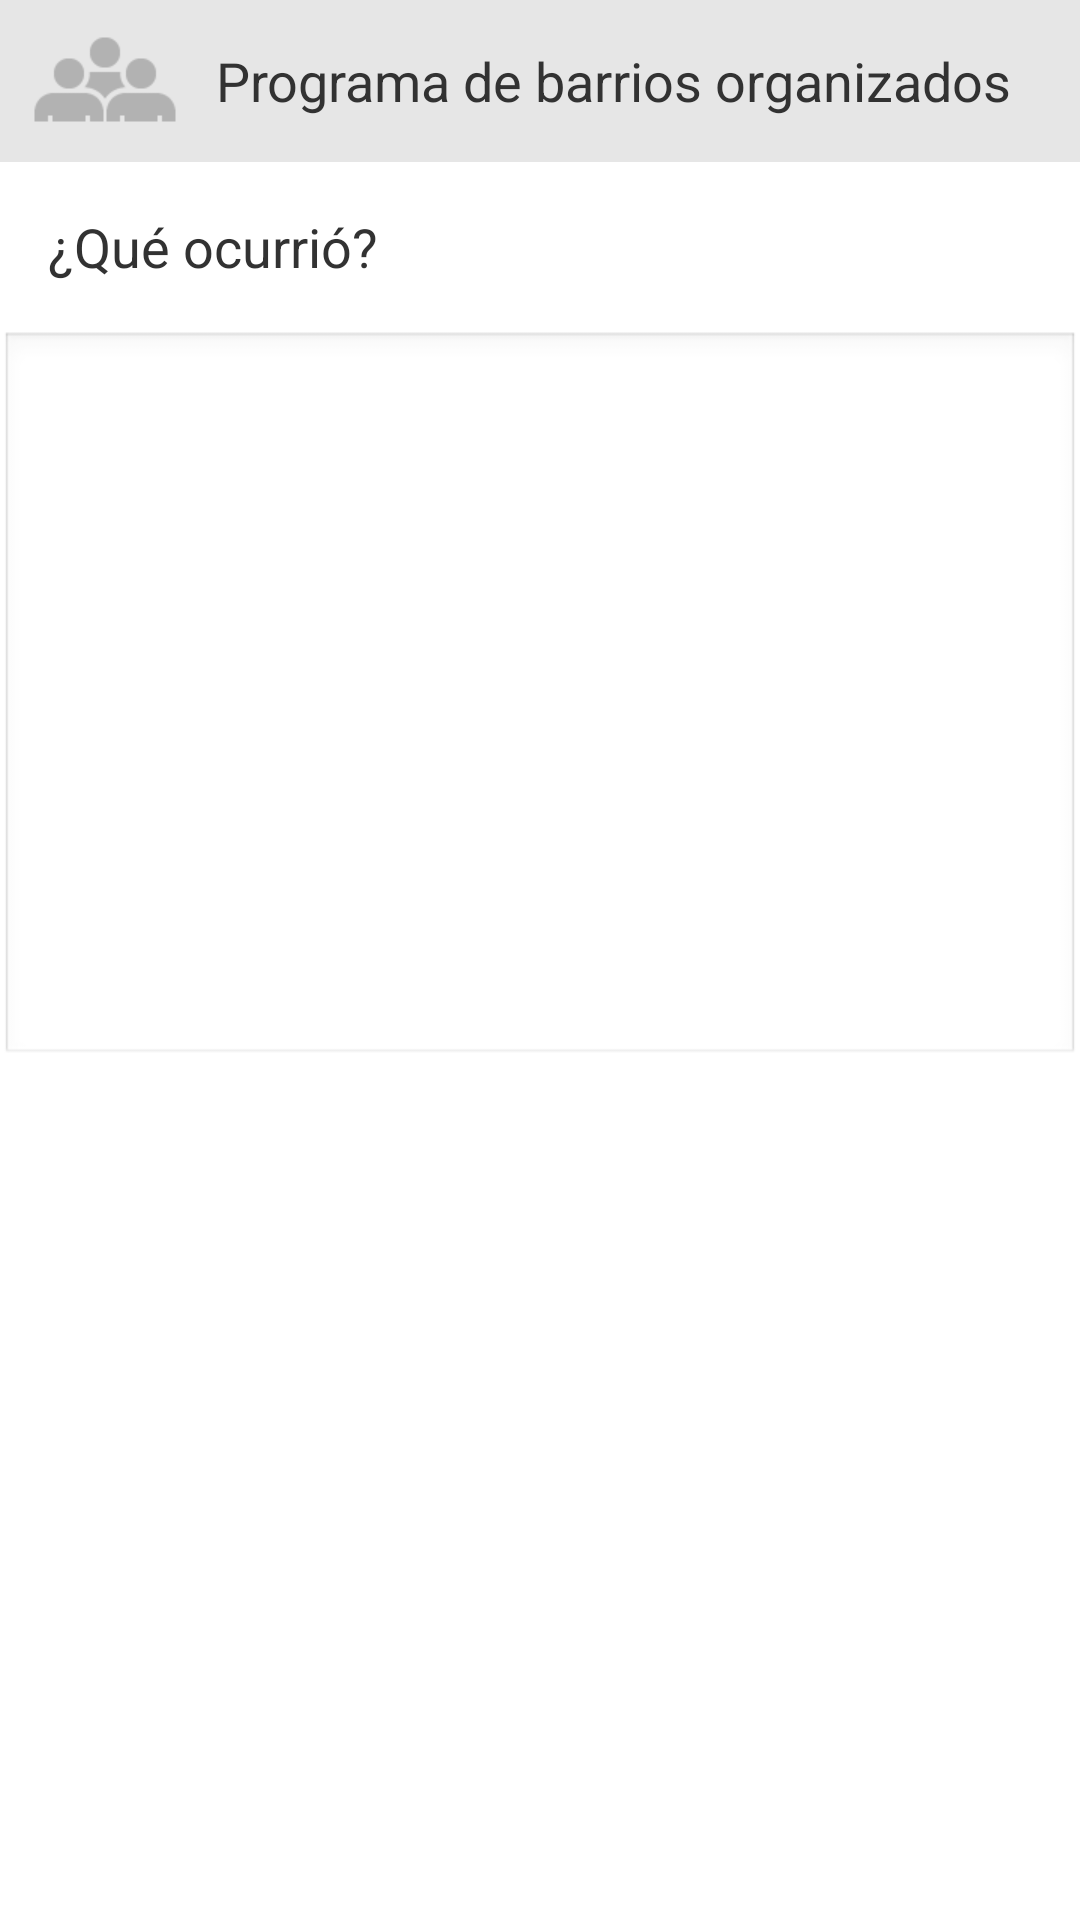

Named icons in this screenshot (1080w x 1920h) and their centers, (x=x, y=y):
community: (x=105, y=79)
